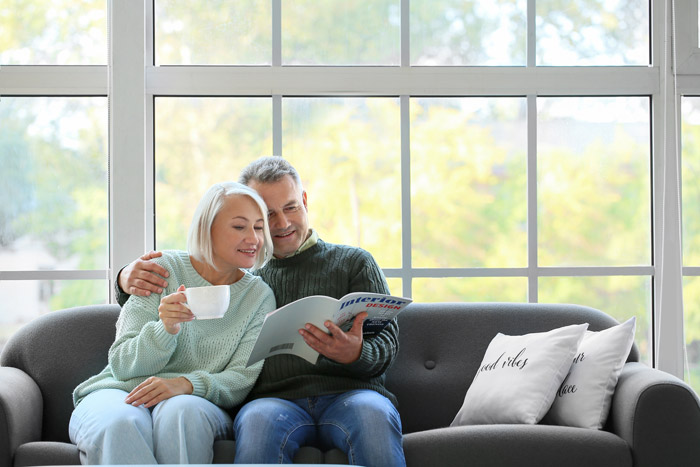female: (65, 182, 270, 467)
male: (256, 155, 400, 467)
